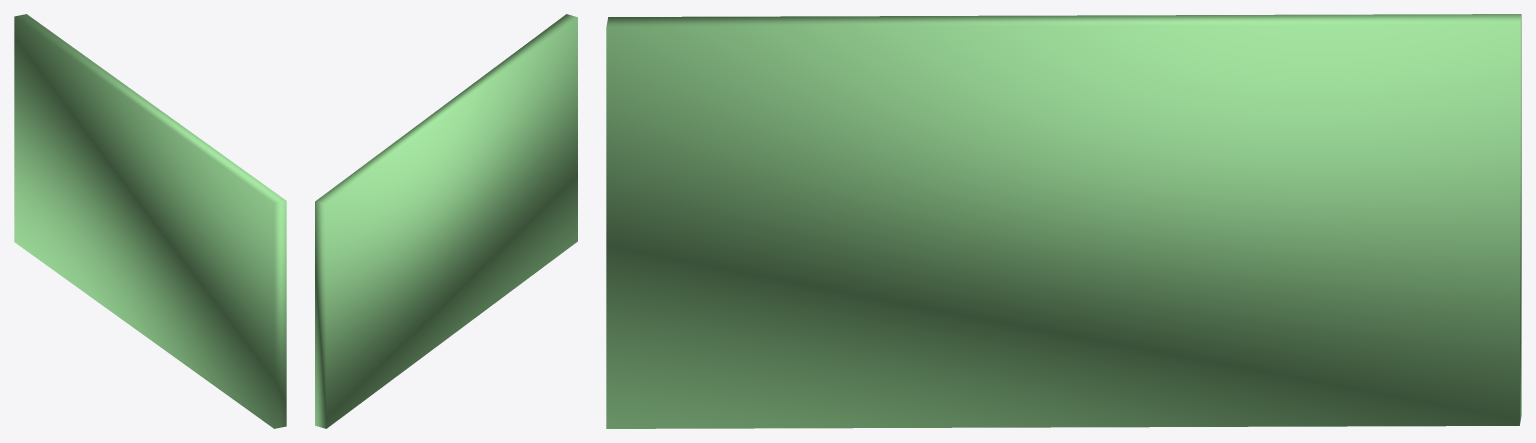
File: Small Wall (Solo).fbx
3 views of the same model, side by side, from view 1: azimuth 30°, elevation 25°; view 2: azimuth 150°, elevation 25°; view 3: azimuth 270°, elevation 25° (orthographic). The views are drawn at different scales.
Visible parts, largest first — view 1: Green Wall 3; view 2: Green Wall 3; view 3: Green Wall 3.
Part boxes in pixels (x1=…): Green Wall 3: x1=14, y1=14, x2=286, y2=428; Green Wall 3: x1=315, y1=14, x2=577, y2=428; Green Wall 3: x1=606, y1=14, x2=1521, y2=428.
Bounding box in the file's own units: 93.77 × 1307 × 2700.
